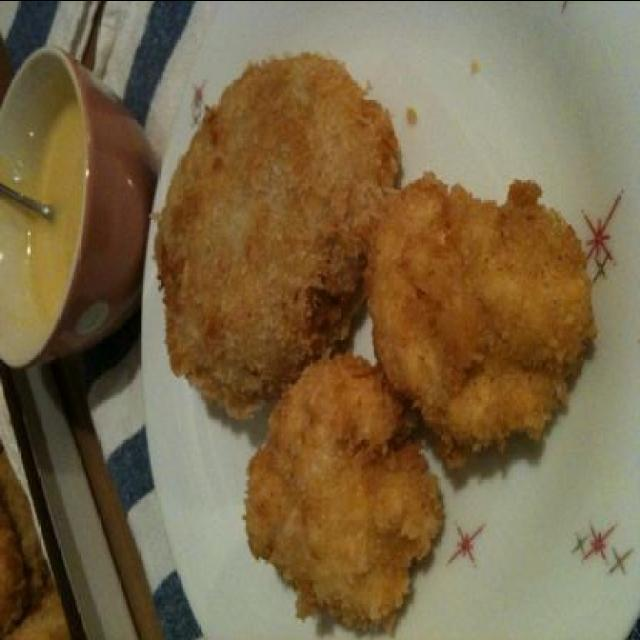Chicken nugget: (153, 31, 609, 617)
